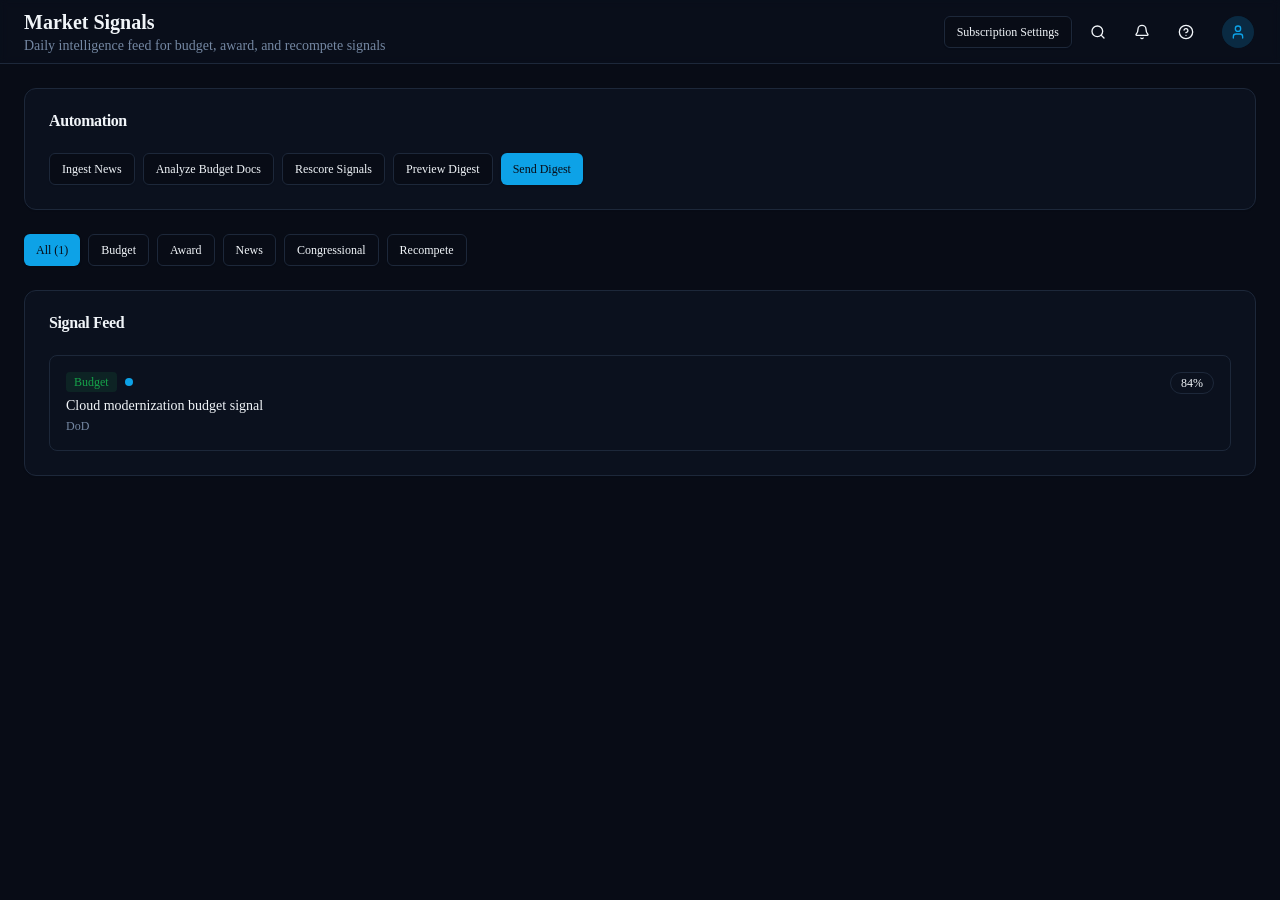
it: SignalsPage › runs automation actions and renders digest preview
The image size is (1280, 900).
Expected: the heading "Market Signals" is shown, [24,10,155,32]
Expected: the text "Cloud modernization budget signal" is shown, [66,398,263,413]
Click the button "Ingest News": x=92, y=169 [49,153,135,185]
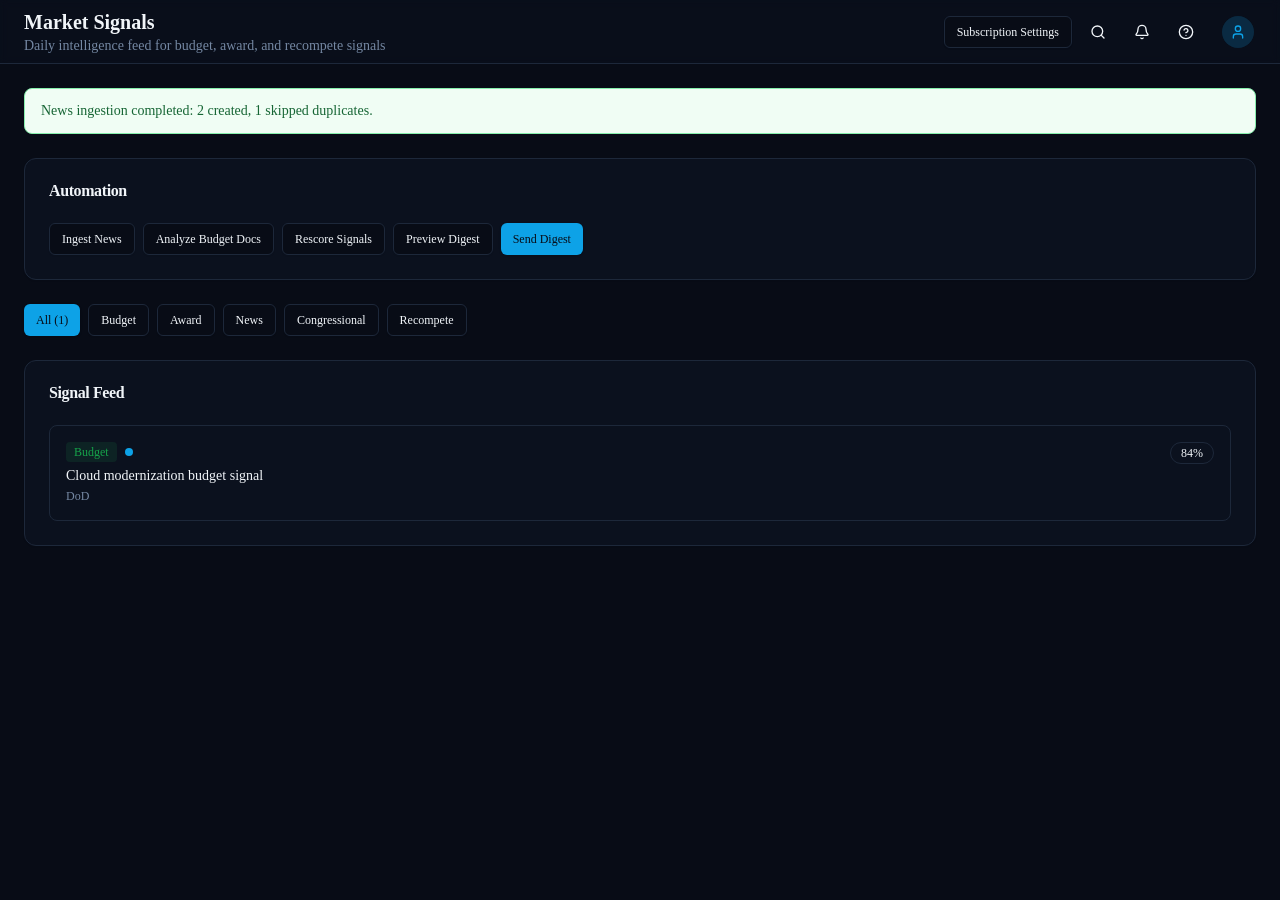
Click the button "Analyze Budget Docs": x=208, y=239 [143,223,274,255]
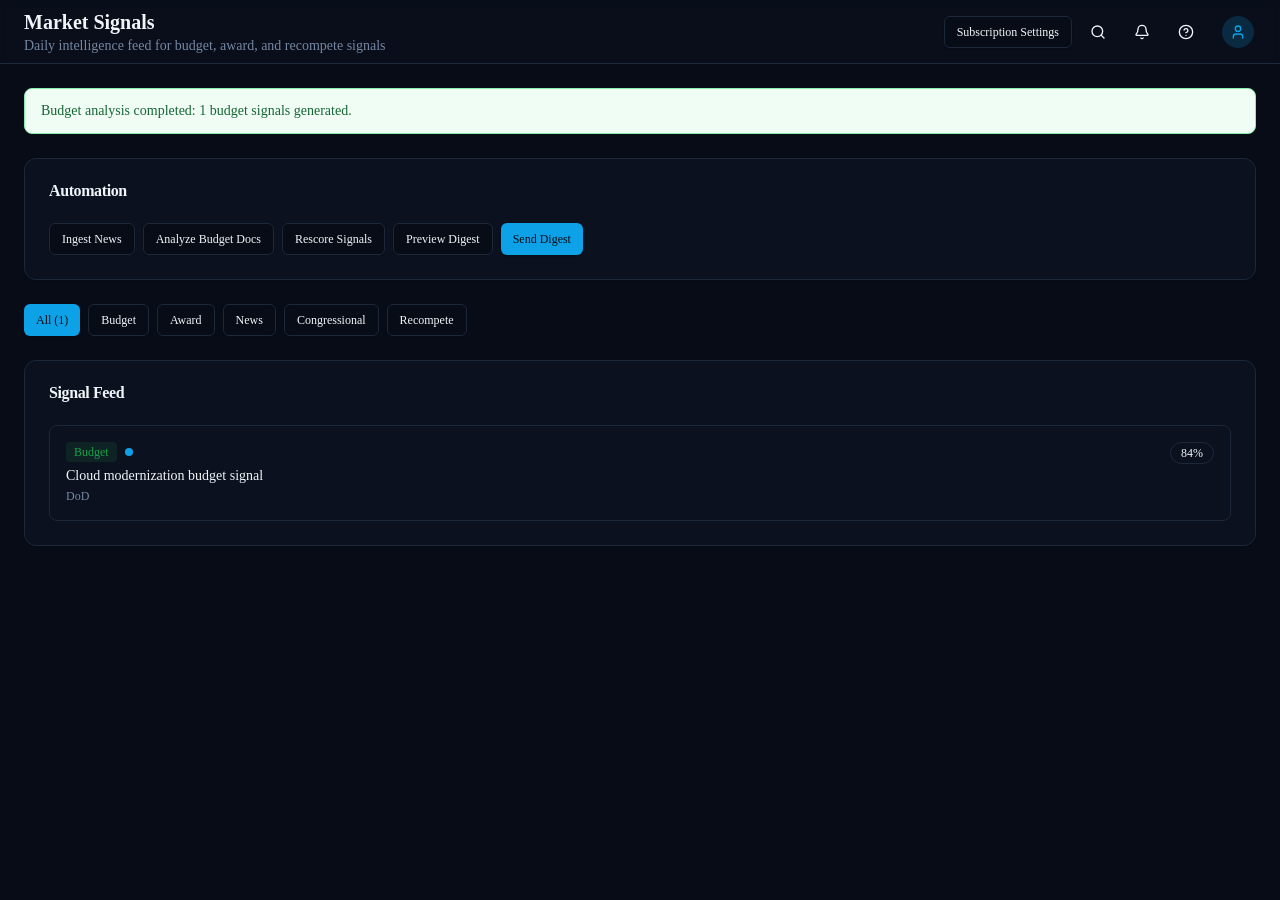
Click the button "Rescore Signals": x=334, y=239 [282,223,385,255]
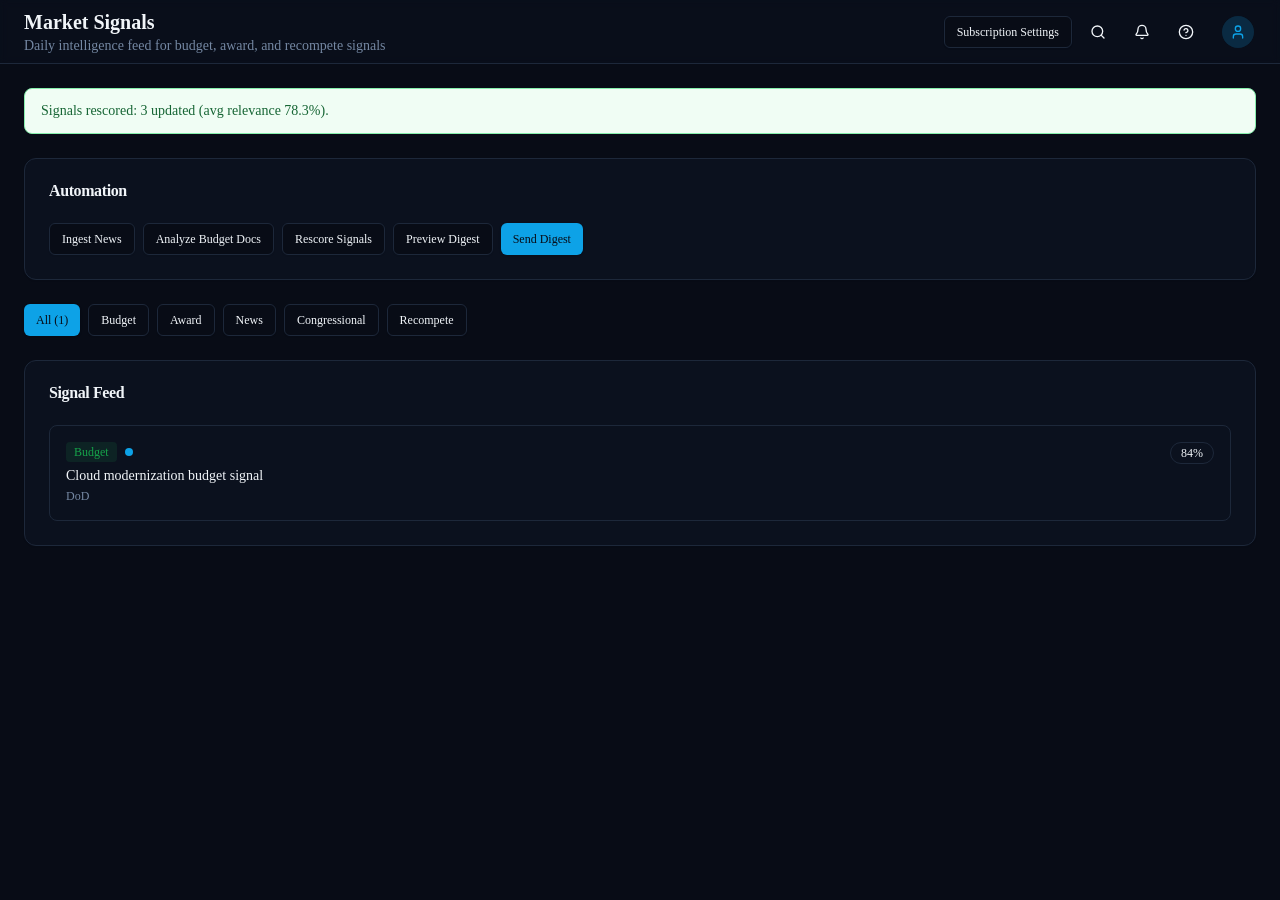
Click the button "Preview Digest": x=443, y=239 [393,223,493,255]
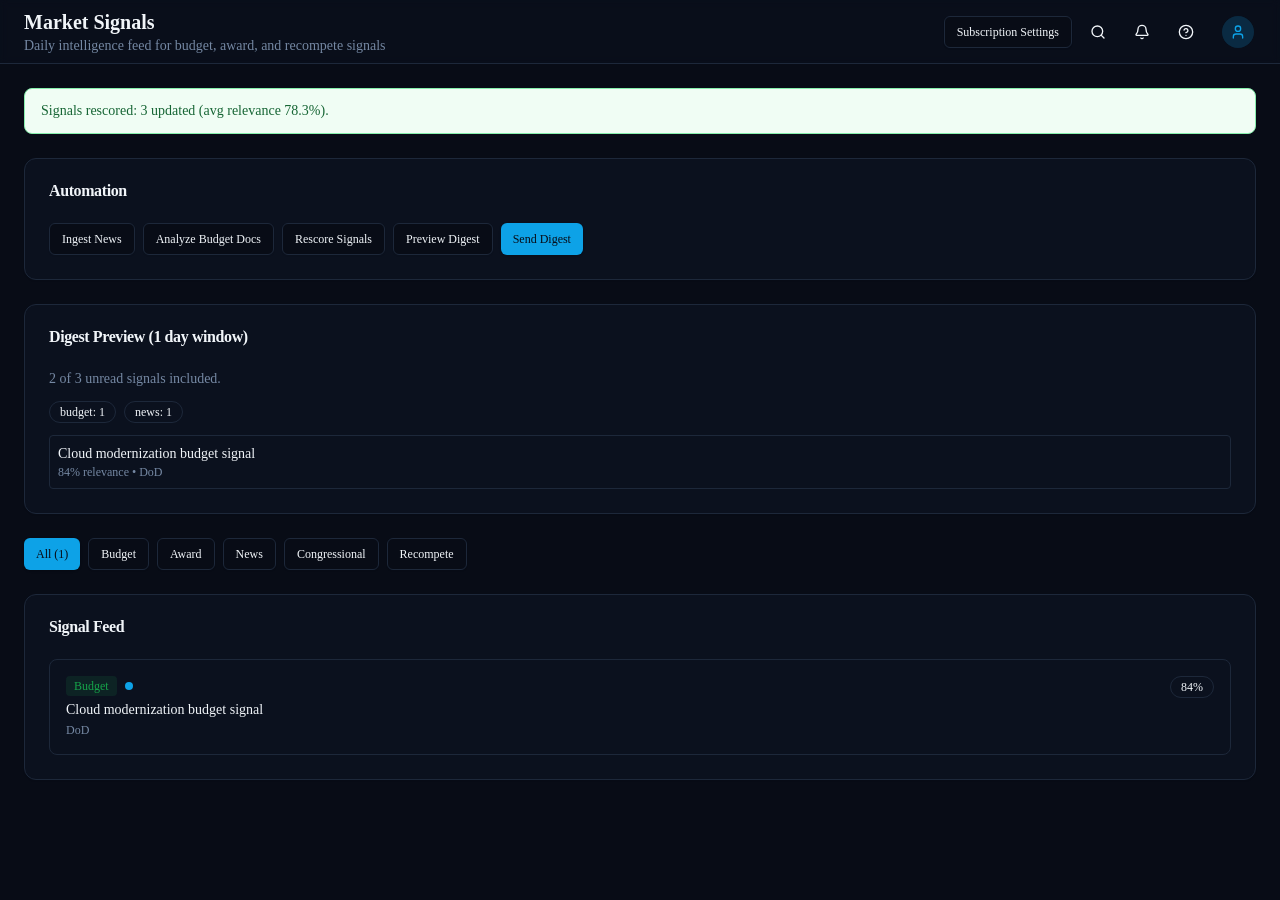
Result: the element with test id "signals-digest-preview-card" is shown at [24,304,1256,514]
Click the button "Send Digest": x=542, y=239 [501,223,583,255]
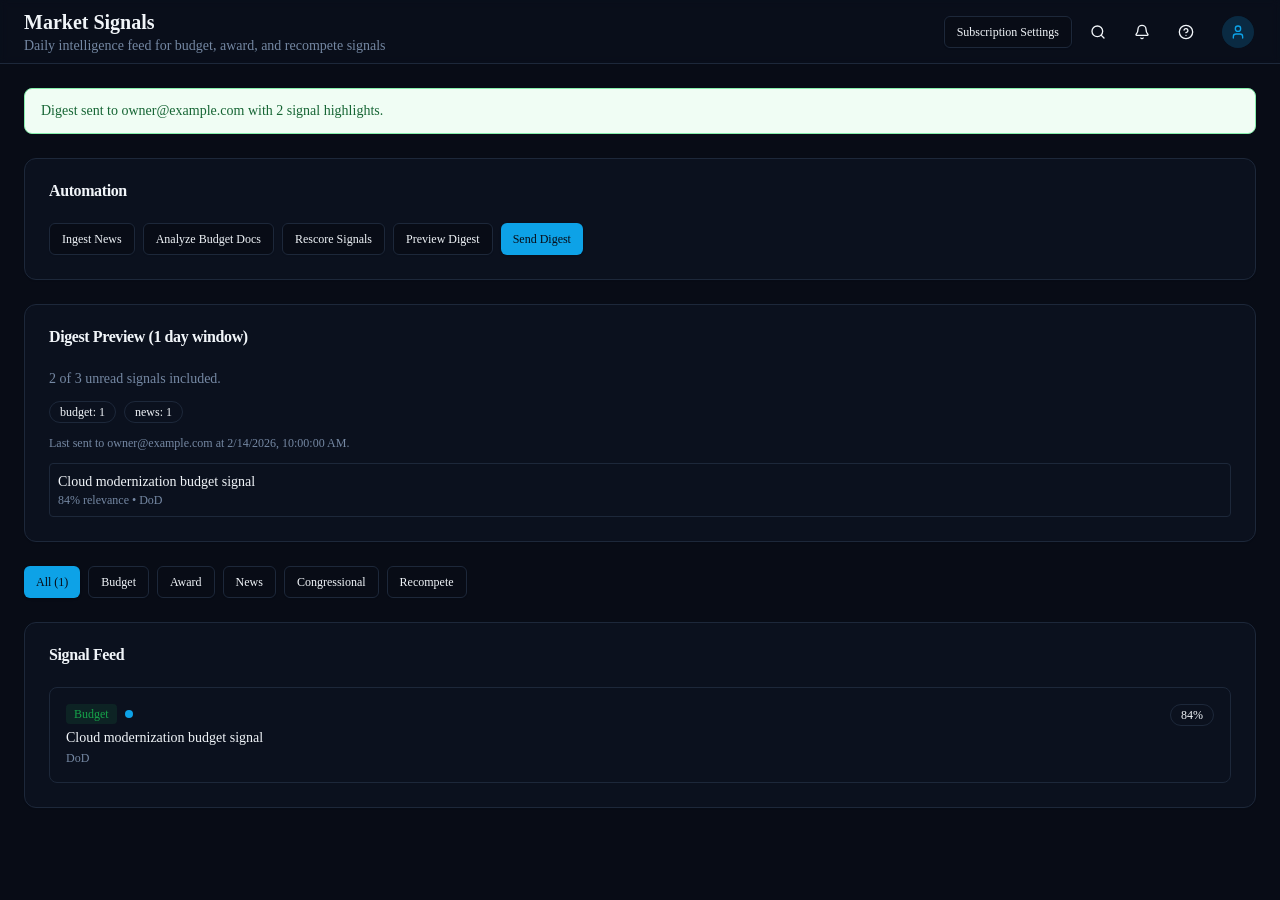
Result: the text with test id "signals-action-message" reads "Digest sent to owner@example.com with 2 signal highlights." at [41,103,383,118]
